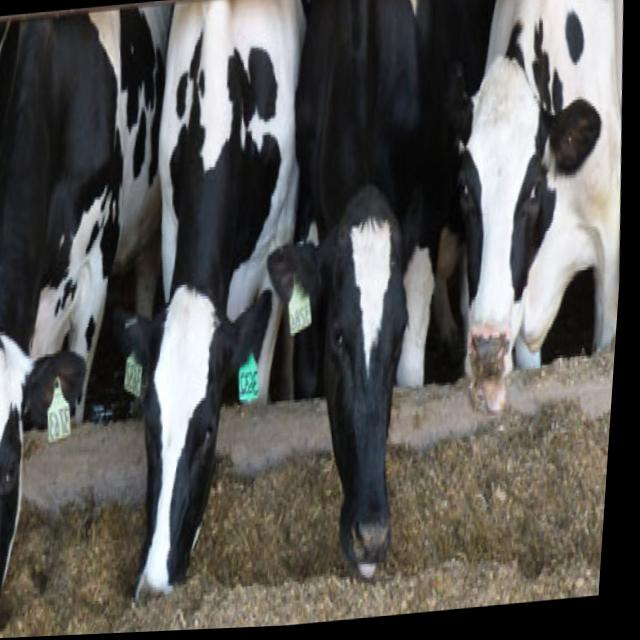cowFace: (411, 36, 622, 432), (255, 186, 440, 609), (92, 278, 300, 619)
